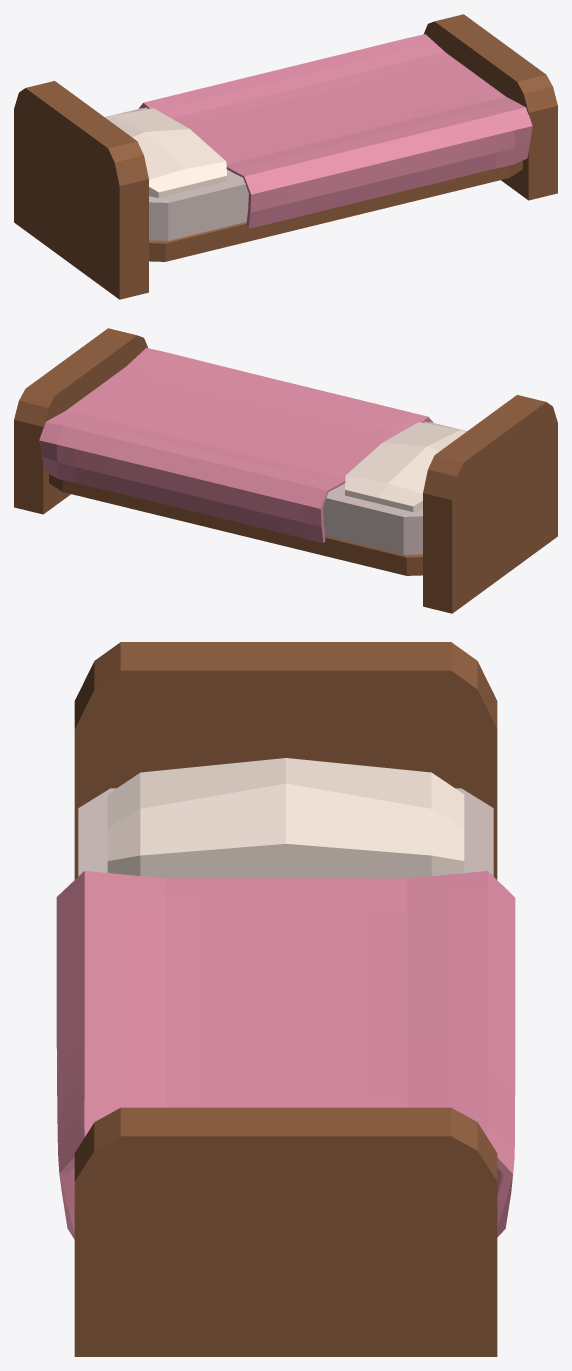
File: Bed.fbx
The picture shows the model from 3 angles, top to bottom: view 1: azimuth 30°, elevation 25°; view 2: azimuth 150°, elevation 25°; view 3: azimuth 270°, elevation 25°; orthographic projection. The views are drawn at different scales.
Visible parts, largest first — view 1: Plane, Cube.002, Cube, Cube.001, Cube.003; view 2: Plane, Cube.002, Cube, Cube.001, Cube.003; view 3: Plane, Cube.001, Cube.002, Cube.003, Cube.
Part boxes in pixels (left/top/right/bottom): Plane: left=138, top=34, right=532, bottom=228; Cube.002: left=14, top=81, right=148, bottom=299; Cube: left=105, top=107, right=522, bottom=261; Cube.001: left=423, top=14, right=557, bottom=200; Cube.003: left=105, top=108, right=226, bottom=197; Plane: left=39, top=348, right=433, bottom=542; Cube.002: left=423, top=395, right=557, bottom=613; Cube: left=49, top=421, right=466, bottom=575; Cube.001: left=14, top=328, right=147, bottom=514; Cube.003: left=345, top=422, right=466, bottom=511; Plane: left=56, top=871, right=515, bottom=1239; Cube.001: left=74, top=1107, right=497, bottom=1356; Cube.002: left=74, top=642, right=497, bottom=879; Cube.003: left=107, top=758, right=464, bottom=878; Cube: left=78, top=788, right=493, bottom=876.
Bounding box in the file's own units: 575 × 180 × 260.
